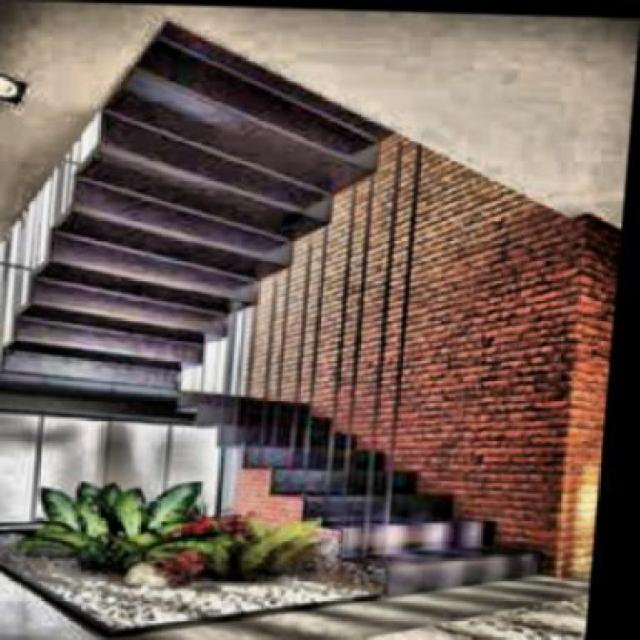stair: (188, 382, 584, 603)
